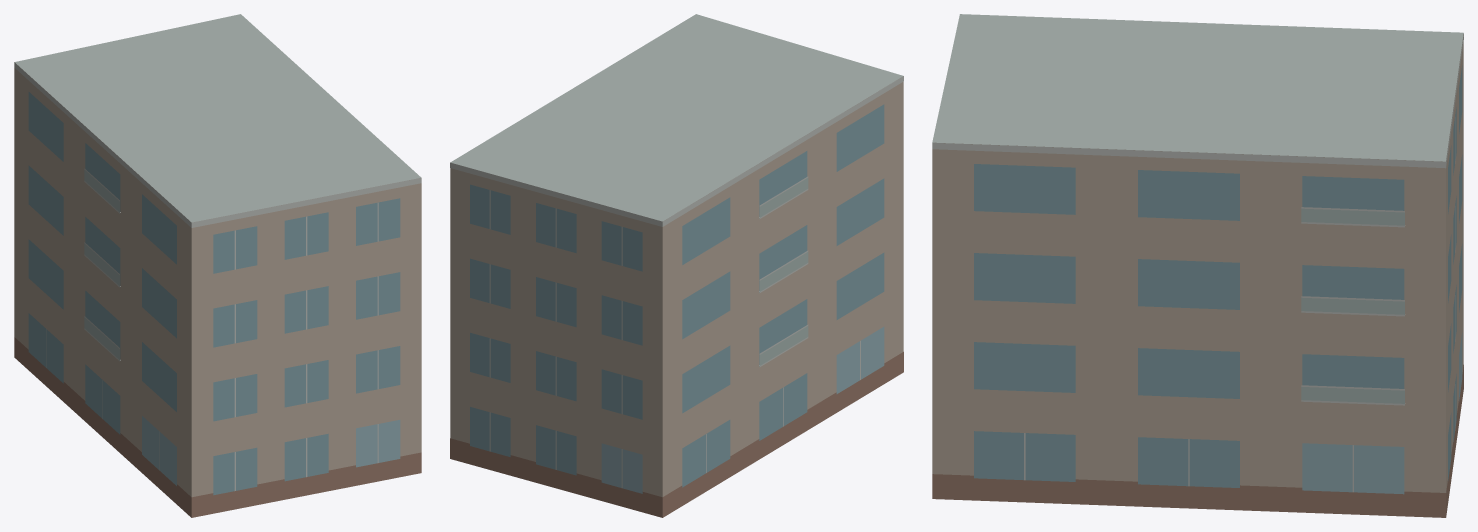
The model's file is survey-upis-32759342.glb.
3 renders of one model, left to right at view 1: azimuth 30°, elevation 25°; view 2: azimuth 150°, elevation 25°; view 3: azimuth 270°, elevation 25°, orthographic. The views are drawn at different scales.
Visible parts, largest first — view 1: survey-upis-32759342.tmp; view 2: survey-upis-32759342.tmp; view 3: survey-upis-32759342.tmp.
Boxes of the visible parts, x1=… form: survey-upis-32759342.tmp: x1=14, y1=14, x2=421, y2=517; survey-upis-32759342.tmp: x1=450, y1=14, x2=903, y2=517; survey-upis-32759342.tmp: x1=932, y1=14, x2=1463, y2=517.
Size of the model in its own units: 11.69 by 13.15 by 17.79.
